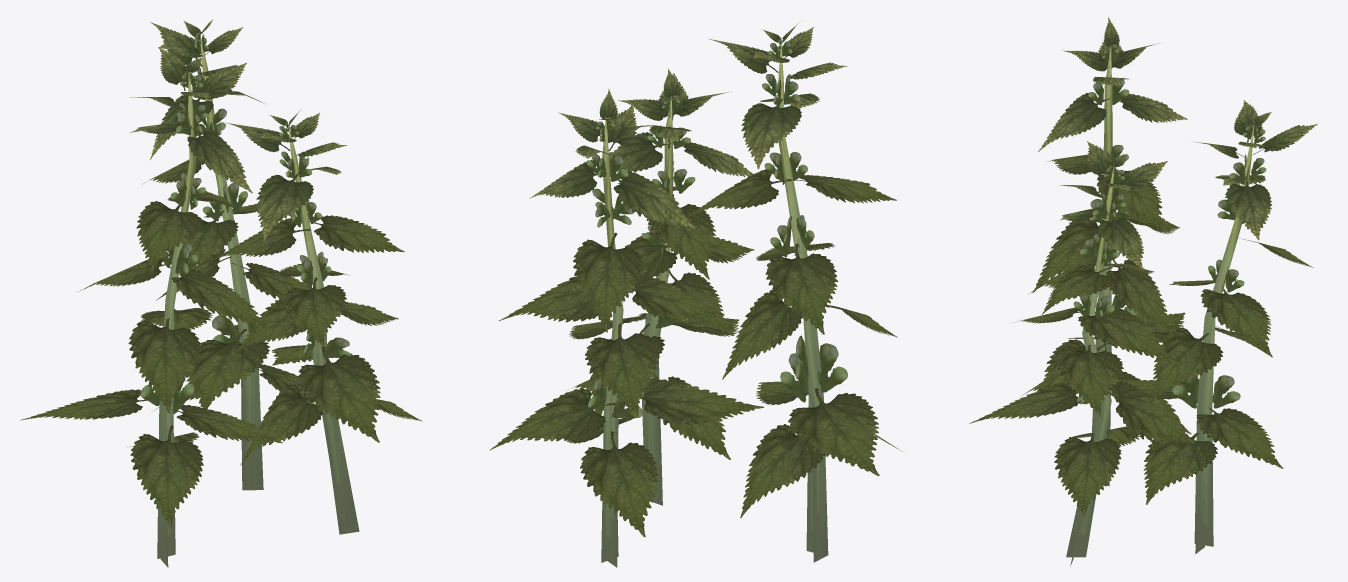
Rendered from arden_forest_nettle_05_foliage.fbx.
3 views of the same model, side by side, from view 1: azimuth 30°, elevation 25°; view 2: azimuth 150°, elevation 25°; view 3: azimuth 270°, elevation 25° (orthographic). The views are drawn at different scales.
Parts seen in each view (by area): view 1: arden_forest_nettle_05_foliage; view 2: arden_forest_nettle_05_foliage; view 3: arden_forest_nettle_05_foliage.
Boxes of the visible parts, x1,y1,x2,y2 form: arden_forest_nettle_05_foliage: (20, 19, 422, 567); arden_forest_nettle_05_foliage: (489, 23, 901, 567); arden_forest_nettle_05_foliage: (969, 17, 1317, 566).
Bounding box in the file's own units: 74.44 × 96.99 × 68.41.
